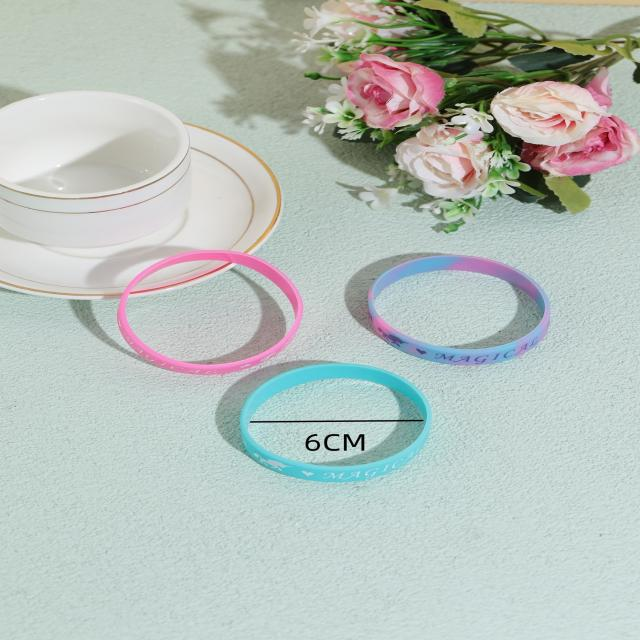bracelet: (82, 183, 314, 378), (380, 236, 630, 382), (223, 337, 443, 477)
